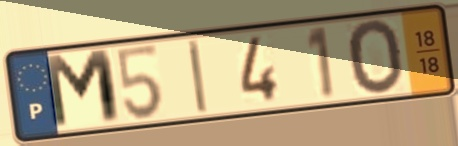1: (305, 23, 338, 101)
4: (238, 33, 282, 106)
5: (113, 40, 166, 123)
I: (184, 37, 211, 118)
M: (40, 46, 126, 133)
O: (344, 17, 407, 99)
